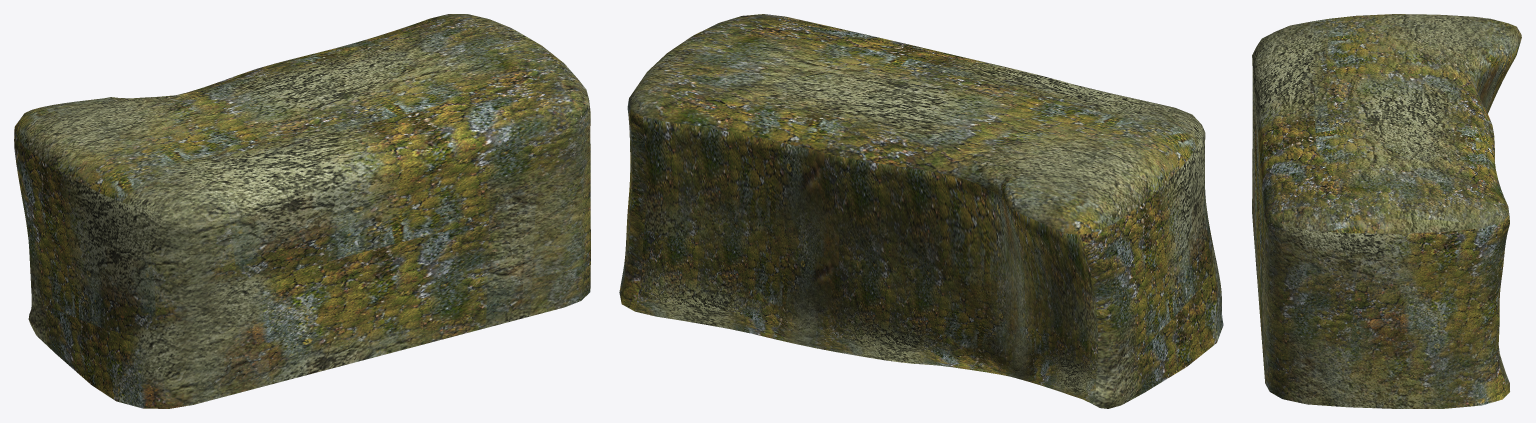
The model's file is xuanya_1.FBX.
3 views of the same model, side by side, from view 1: azimuth 30°, elevation 25°; view 2: azimuth 150°, elevation 25°; view 3: azimuth 270°, elevation 25° (orthographic). The views are drawn at different scales.
Parts seen in each view (by area): view 1: shanti5; view 2: shanti5; view 3: shanti5.
Boxes of the visible parts, left/top/right/bottom form: shanti5: left=14, top=14, right=590, bottom=408; shanti5: left=619, top=14, right=1223, bottom=408; shanti5: left=1252, top=14, right=1521, bottom=408.
Size of the model in its own units: 2814 by 1196 by 1471.
